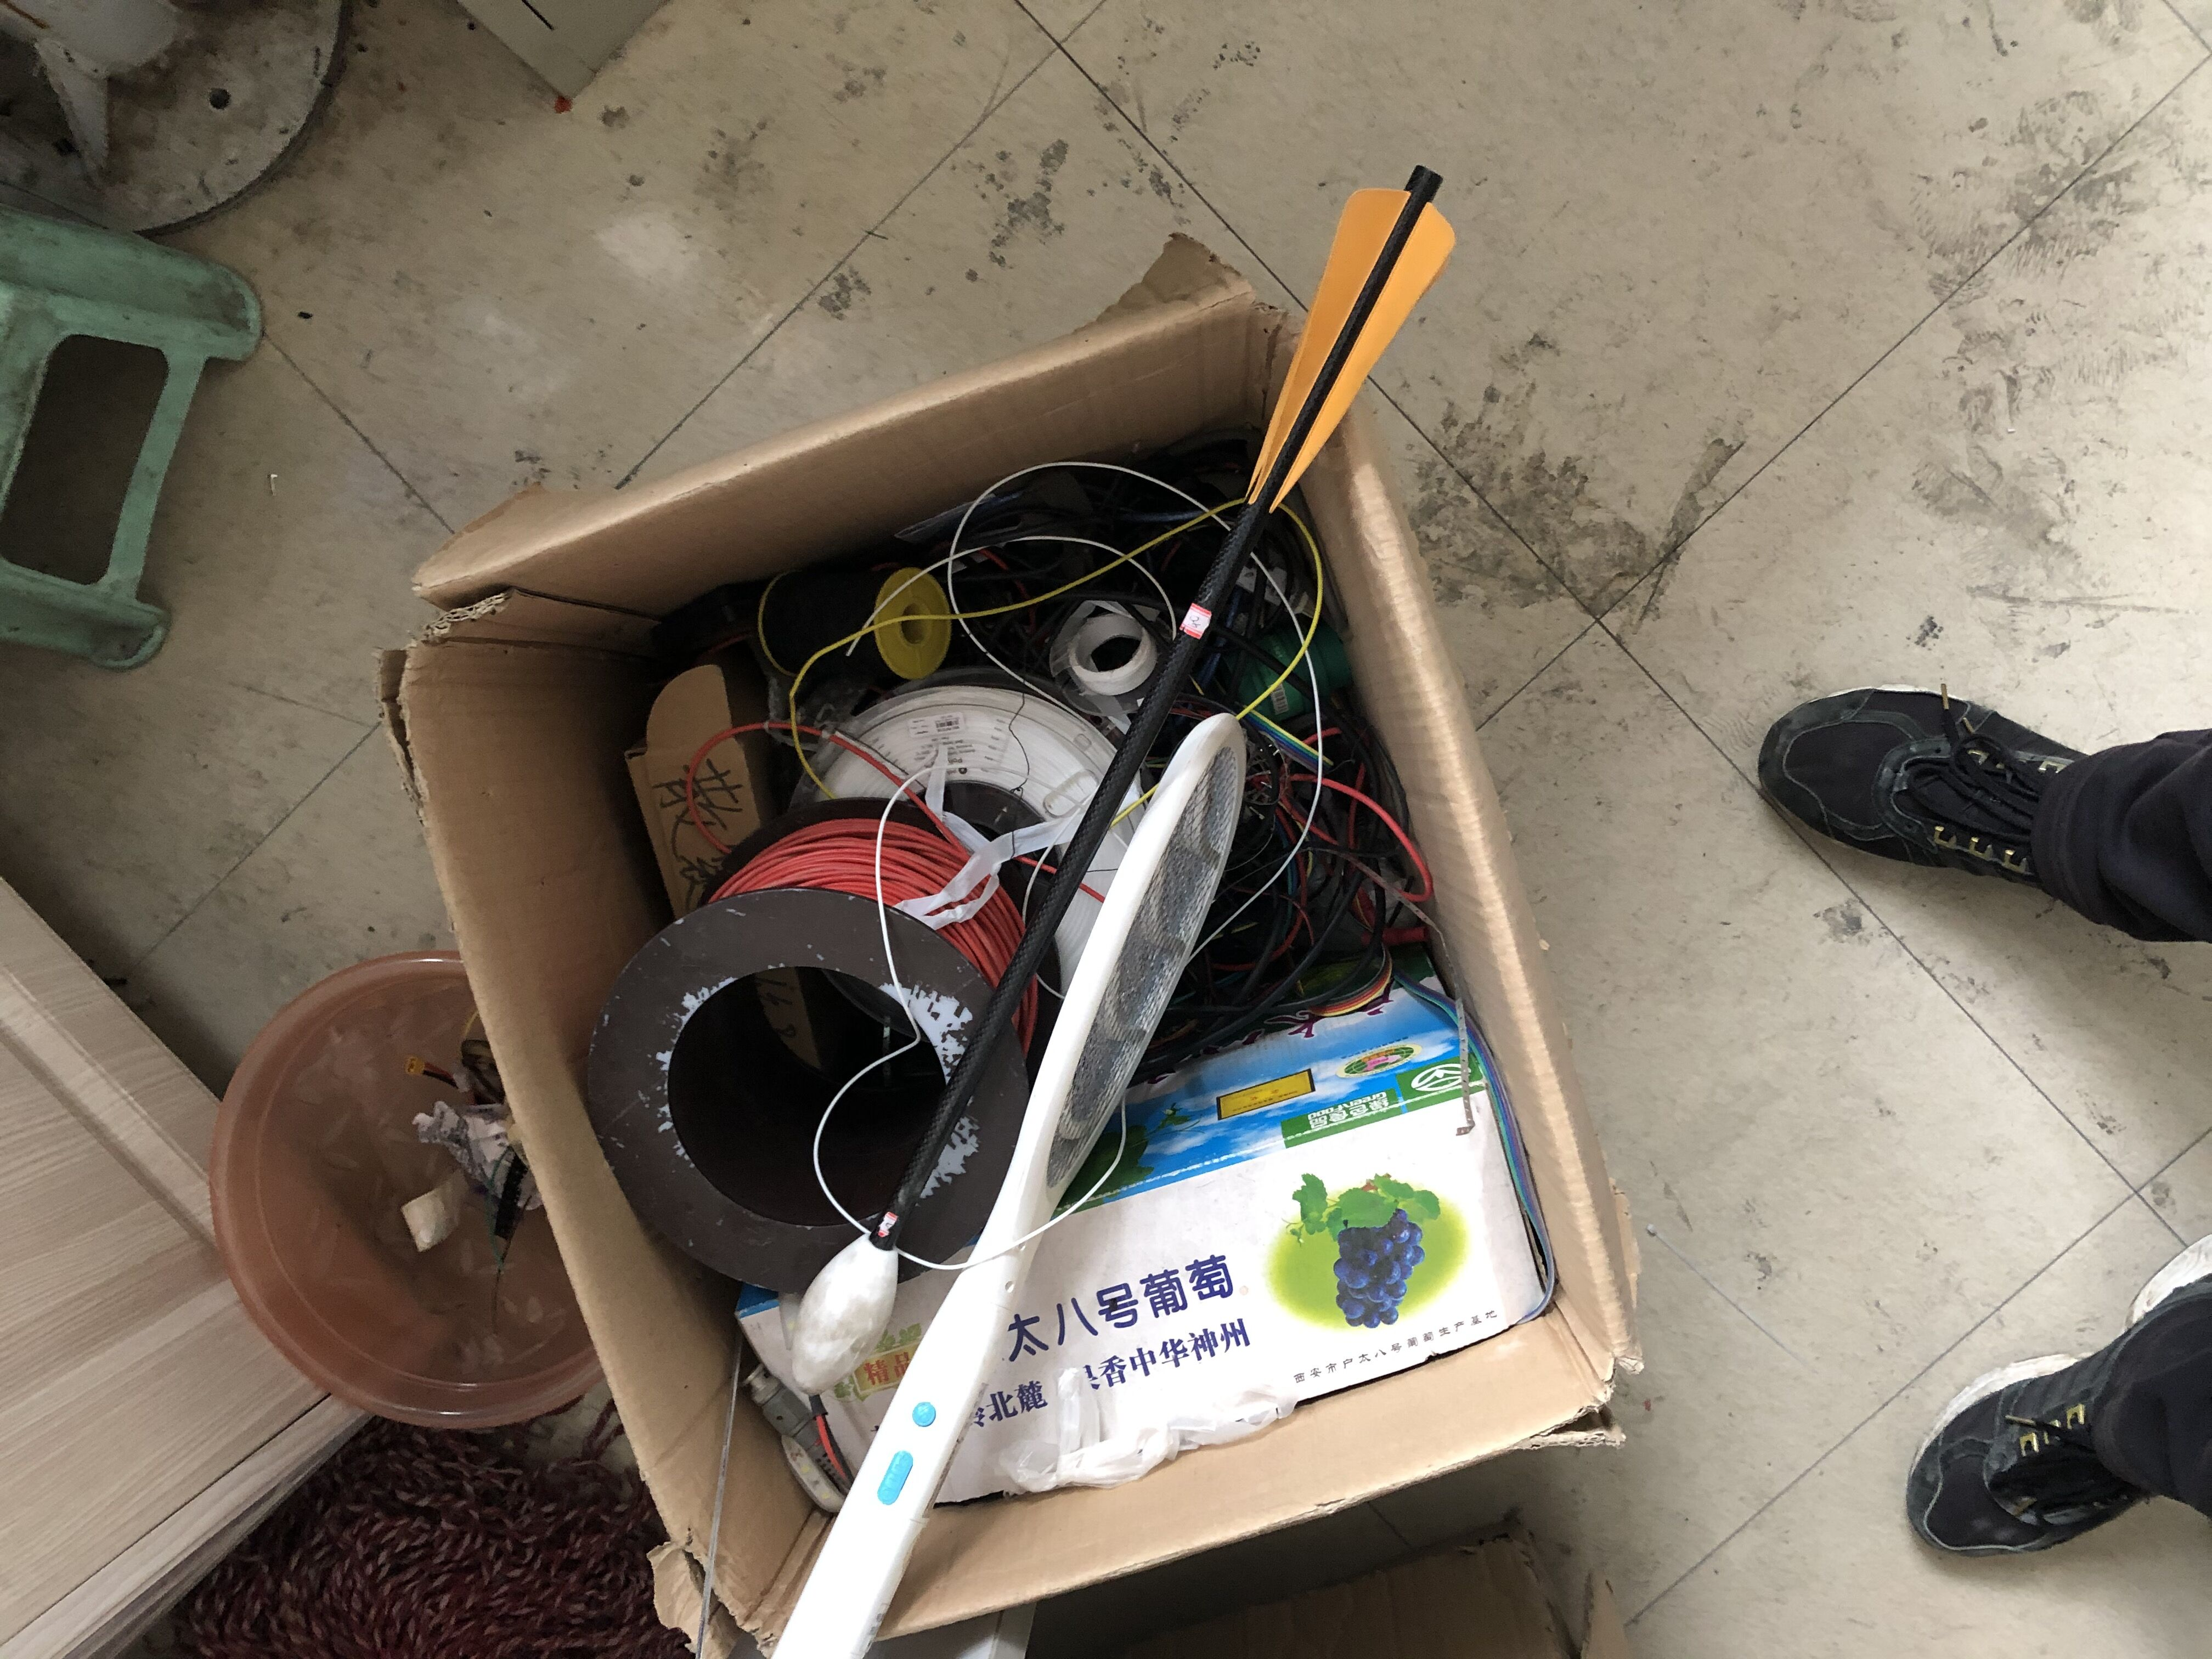arrow: (791, 164, 1458, 1399)
arrowFront: (792, 1236, 897, 1392)
